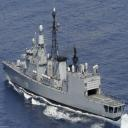Fragata: (3, 3, 127, 123)
